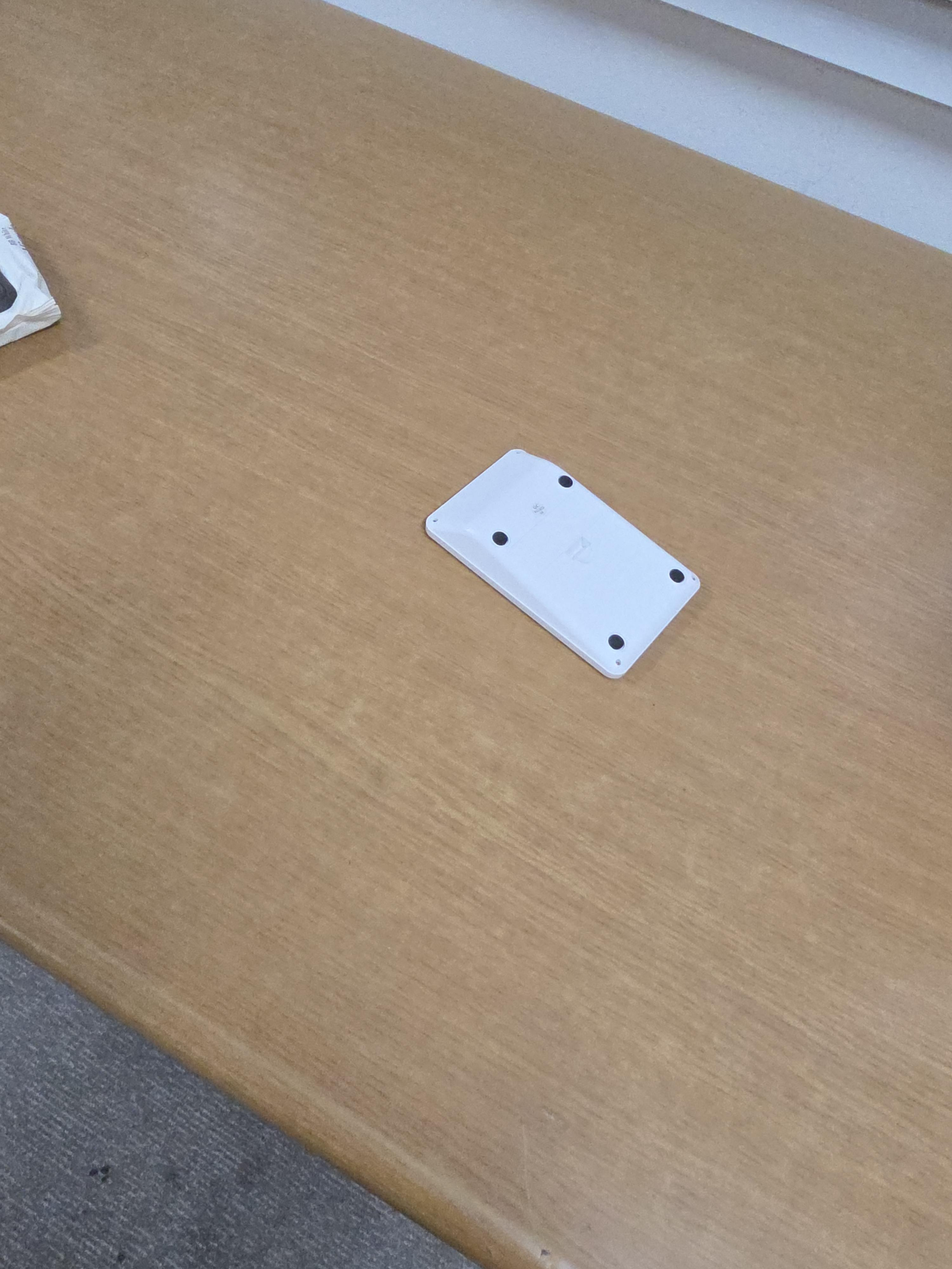calculator: (425, 449, 702, 680)
tissue: (0, 213, 62, 348)
